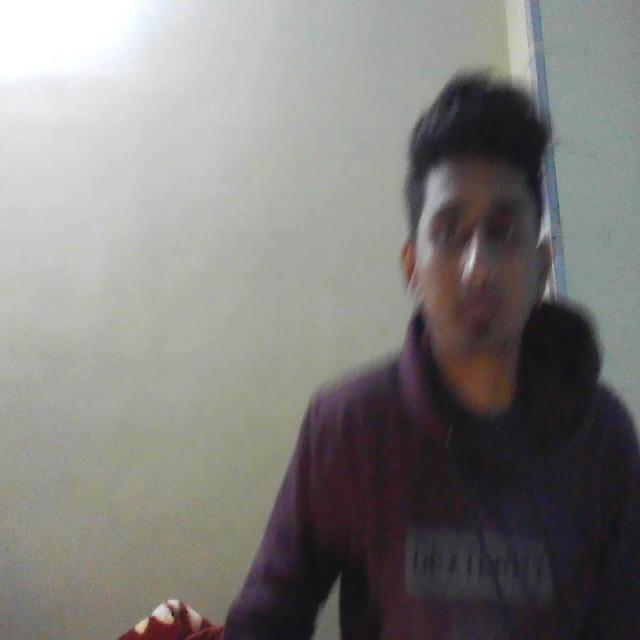real: (400, 81, 562, 387)
